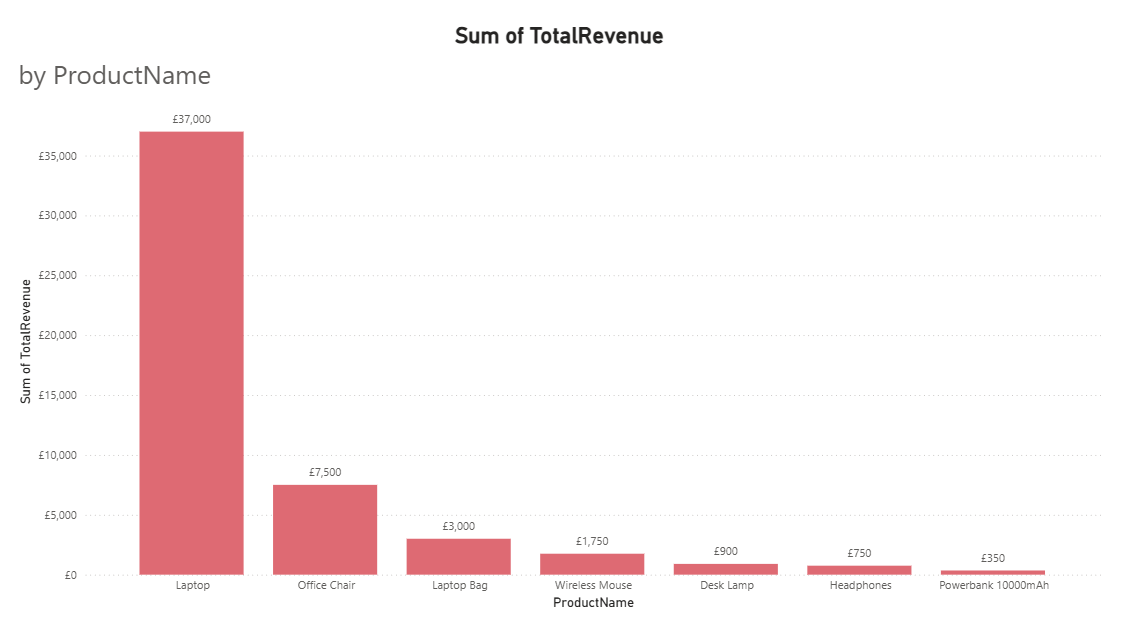

The page's visual inventory and layout, read from the dashboard file:
{"tool":"powerbi","page":{"name":"Page 3","canvas":[1280,720],"ordinal":3},"visuals":[{"type":"clusteredColumnChart","fields":{"Y":["Sum(Query3.TotalRevenue)"],"Category":["Query3.ProductName"]},"box":[50.2,38.9,1178.8,639.6],"z":0}]}

Visuals, with their boxes in screenshot pixels (x1, y1, x2, y2), scaled from the page's 1280x720 canvas onto the 1131x637 screenshot:
clusteredColumnChart - Sum(Query3.TotalRevenue) x Query3.ProductName: (x1=44, y1=34, x2=1086, y2=600)
